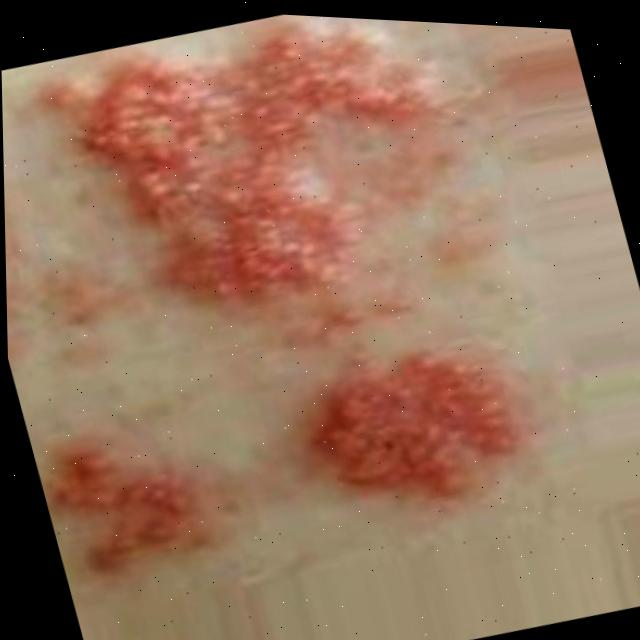Shingles: (32, 2, 497, 402), (292, 321, 533, 533), (41, 420, 212, 589)
